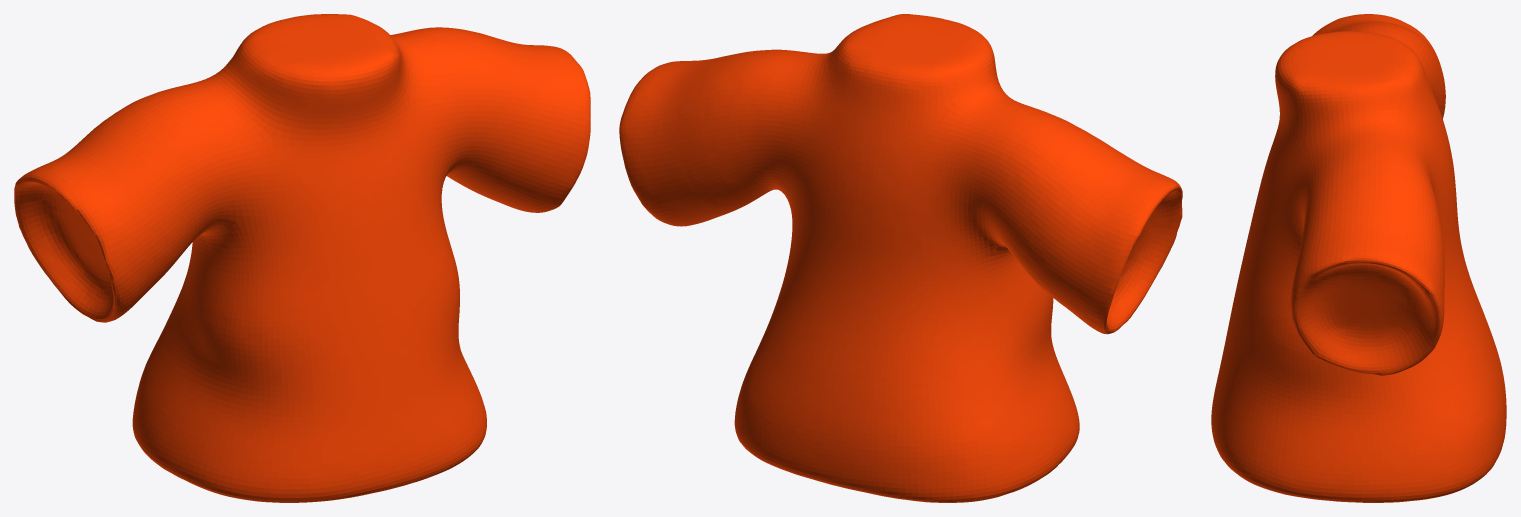
File: TORSO_orange.glb
The picture shows the model from 3 angles, left to right: view 1: azimuth 30°, elevation 25°; view 2: azimuth 150°, elevation 25°; view 3: azimuth 270°, elevation 25°; orthographic projection. The views are drawn at different scales.
Parts seen in each view (by area): view 1: TORSO.orange; view 2: TORSO.orange; view 3: TORSO.orange.
Boxes of the visible parts, x1,y1,x2,y2 form: TORSO.orange: (14, 14, 590, 502); TORSO.orange: (619, 14, 1182, 502); TORSO.orange: (1211, 14, 1506, 502).
Bounding box in the file's own units: 48.87 × 35.5 × 24.85.
